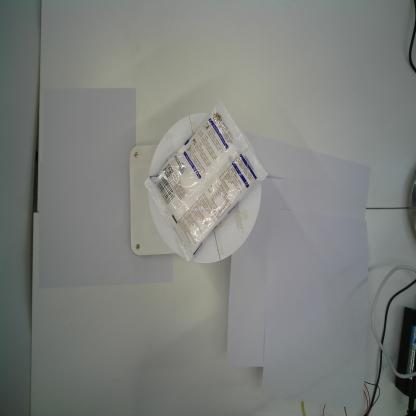Seasoner: (143, 100, 269, 263)
